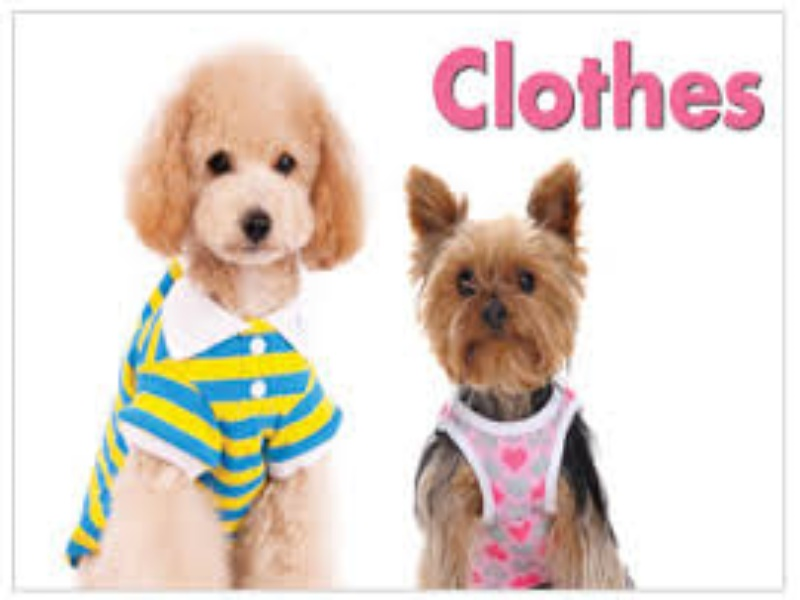dog: (55, 42, 395, 592), (400, 156, 648, 597)
